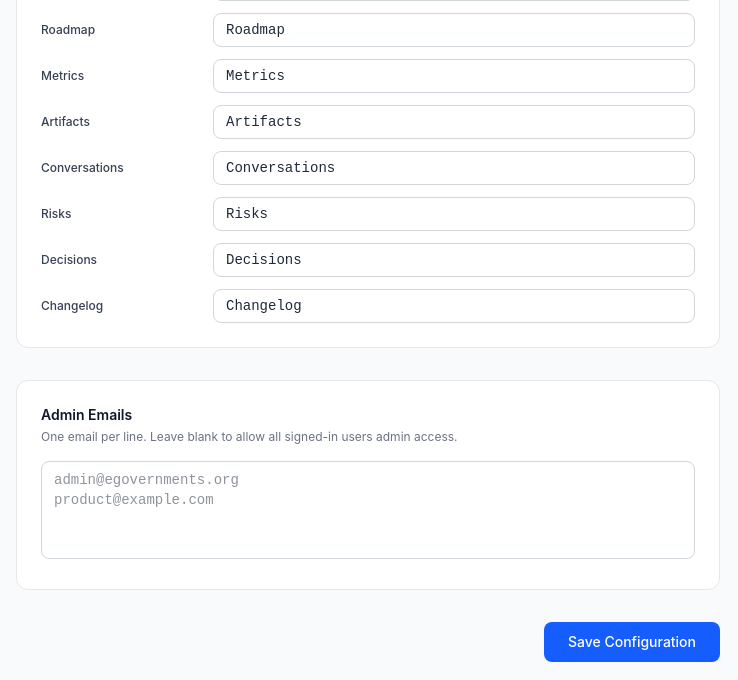
SheetConnector › T-54.06: clicking Save Configuration calls saveConfig and shows saved state
(page scrolled)
Click the button "Save Configuration".
click(632, 642)  # box [544,622,720,662]
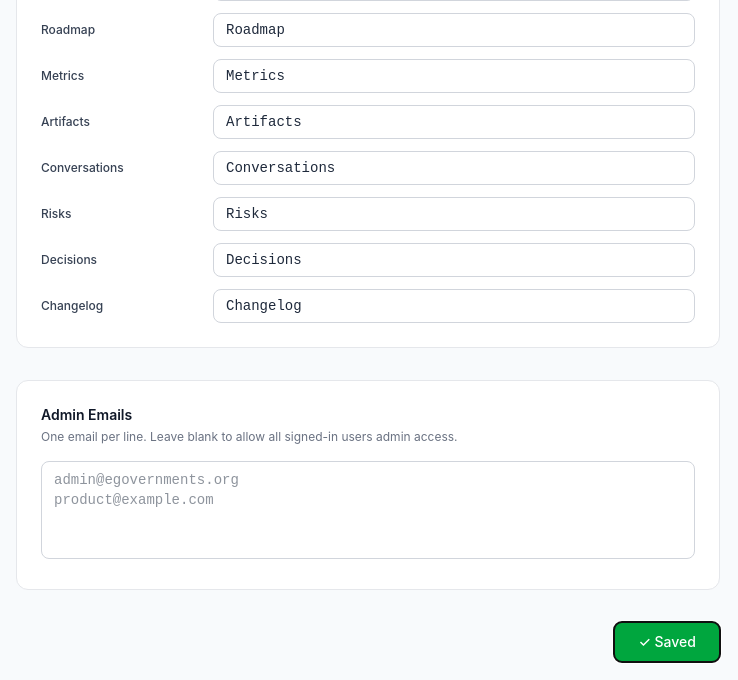
Expected: the button "✓ Saved" is shown, [614,622,720,662]
